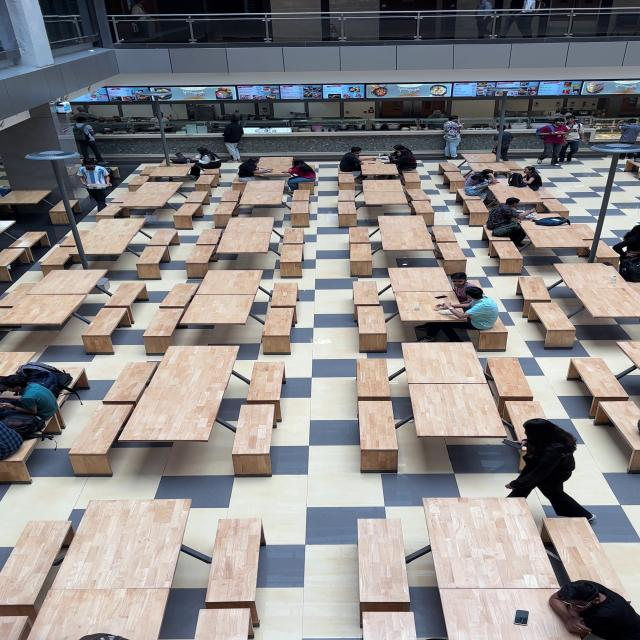Occupied: (503, 424, 592, 524), (444, 589, 586, 640), (549, 579, 639, 639), (2, 378, 59, 426), (3, 360, 88, 389), (482, 195, 531, 242), (398, 294, 471, 324), (554, 263, 624, 294), (462, 288, 500, 328), (280, 161, 318, 196), (0, 412, 47, 439), (339, 146, 372, 182), (186, 146, 223, 177), (386, 146, 418, 178), (0, 612, 36, 640), (463, 170, 496, 199), (351, 155, 408, 171), (519, 214, 571, 231), (238, 157, 270, 184), (445, 270, 476, 296), (158, 154, 204, 168), (514, 166, 542, 189), (262, 172, 302, 180), (508, 172, 527, 188), (255, 166, 293, 173)
Unoccupied: (42, 502, 210, 592), (424, 497, 558, 589), (23, 588, 174, 640), (0, 522, 90, 608), (553, 521, 640, 589), (128, 390, 235, 444), (410, 384, 507, 438), (66, 405, 139, 474), (217, 522, 274, 604), (356, 520, 408, 602), (55, 220, 148, 259), (0, 293, 92, 330), (159, 346, 239, 388), (230, 404, 276, 477), (404, 345, 488, 381), (106, 182, 185, 220), (358, 401, 399, 472), (595, 404, 640, 468), (177, 293, 259, 326), (245, 363, 286, 424), (23, 268, 112, 296), (102, 364, 160, 404), (215, 219, 277, 255), (376, 215, 433, 253), (529, 302, 578, 344), (492, 361, 541, 401), (191, 608, 252, 640), (572, 288, 640, 316), (386, 267, 454, 295), (576, 356, 621, 398), (193, 269, 264, 295), (102, 283, 148, 323), (504, 403, 549, 443), (359, 610, 416, 640), (141, 312, 183, 352), (357, 181, 406, 214), (261, 309, 295, 354), (185, 231, 222, 271), (518, 277, 553, 319), (431, 226, 467, 265), (357, 360, 392, 400), (490, 238, 526, 274), (578, 236, 621, 266), (352, 280, 382, 323), (357, 308, 387, 351), (84, 308, 128, 336), (240, 181, 292, 204), (141, 230, 178, 261), (258, 365, 286, 405), (528, 230, 584, 250), (269, 283, 297, 323), (158, 283, 200, 309), (475, 316, 508, 349), (135, 246, 169, 278), (0, 352, 36, 382), (38, 246, 76, 274), (0, 283, 36, 308), (493, 187, 544, 204), (466, 162, 520, 178), (485, 228, 517, 255), (171, 202, 204, 228), (148, 165, 192, 184), (5, 232, 48, 251), (0, 248, 31, 273), (0, 191, 51, 206), (179, 190, 210, 214), (349, 243, 373, 274), (211, 201, 240, 226), (279, 244, 304, 273), (615, 342, 639, 371), (48, 200, 81, 221), (407, 189, 434, 213), (464, 198, 491, 220), (289, 200, 311, 227), (460, 152, 499, 166), (530, 187, 559, 205), (337, 200, 357, 226), (94, 203, 126, 219), (194, 172, 220, 191), (442, 172, 466, 192), (375, 167, 411, 180), (348, 226, 371, 246), (281, 228, 305, 246), (126, 175, 152, 191), (438, 162, 465, 177), (540, 199, 570, 212), (494, 166, 533, 175), (516, 444, 528, 471), (59, 232, 79, 248), (255, 157, 294, 165), (291, 188, 312, 202), (220, 190, 244, 202), (364, 166, 399, 174), (338, 172, 356, 186), (462, 279, 482, 290), (138, 166, 157, 176)
